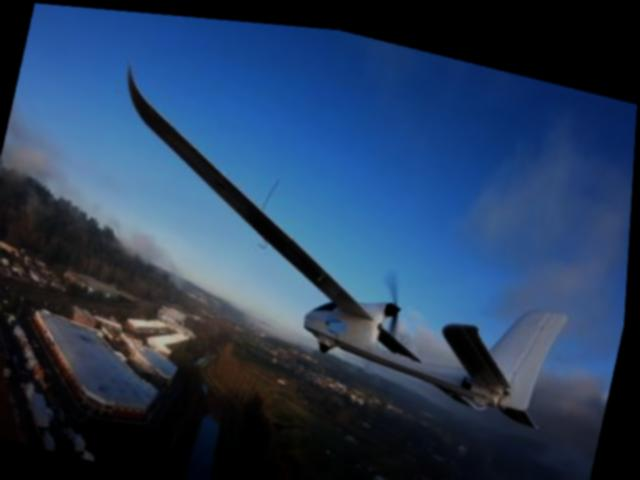uav: (67, 45, 607, 432)
